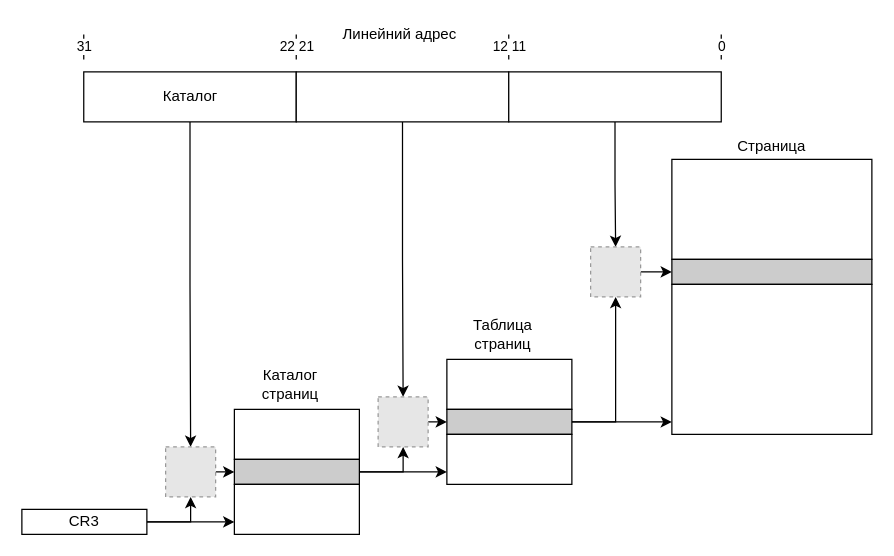
This 894x556 diagram has some shape labels left out. Grey dashed boxes stand in for pictures. The centre of each missing label's shape, as x and y in pixels:
Смещение: point (614, 96)
Таблица: point (402, 96)
